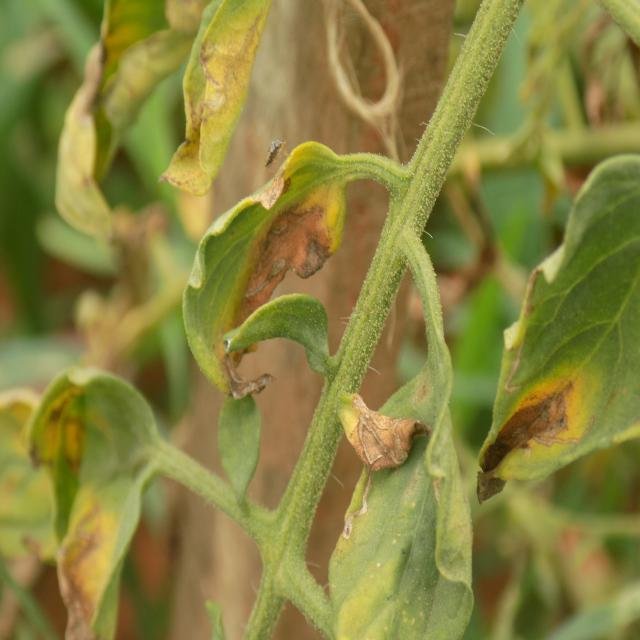tomato_early blight: (176, 141, 352, 396)
